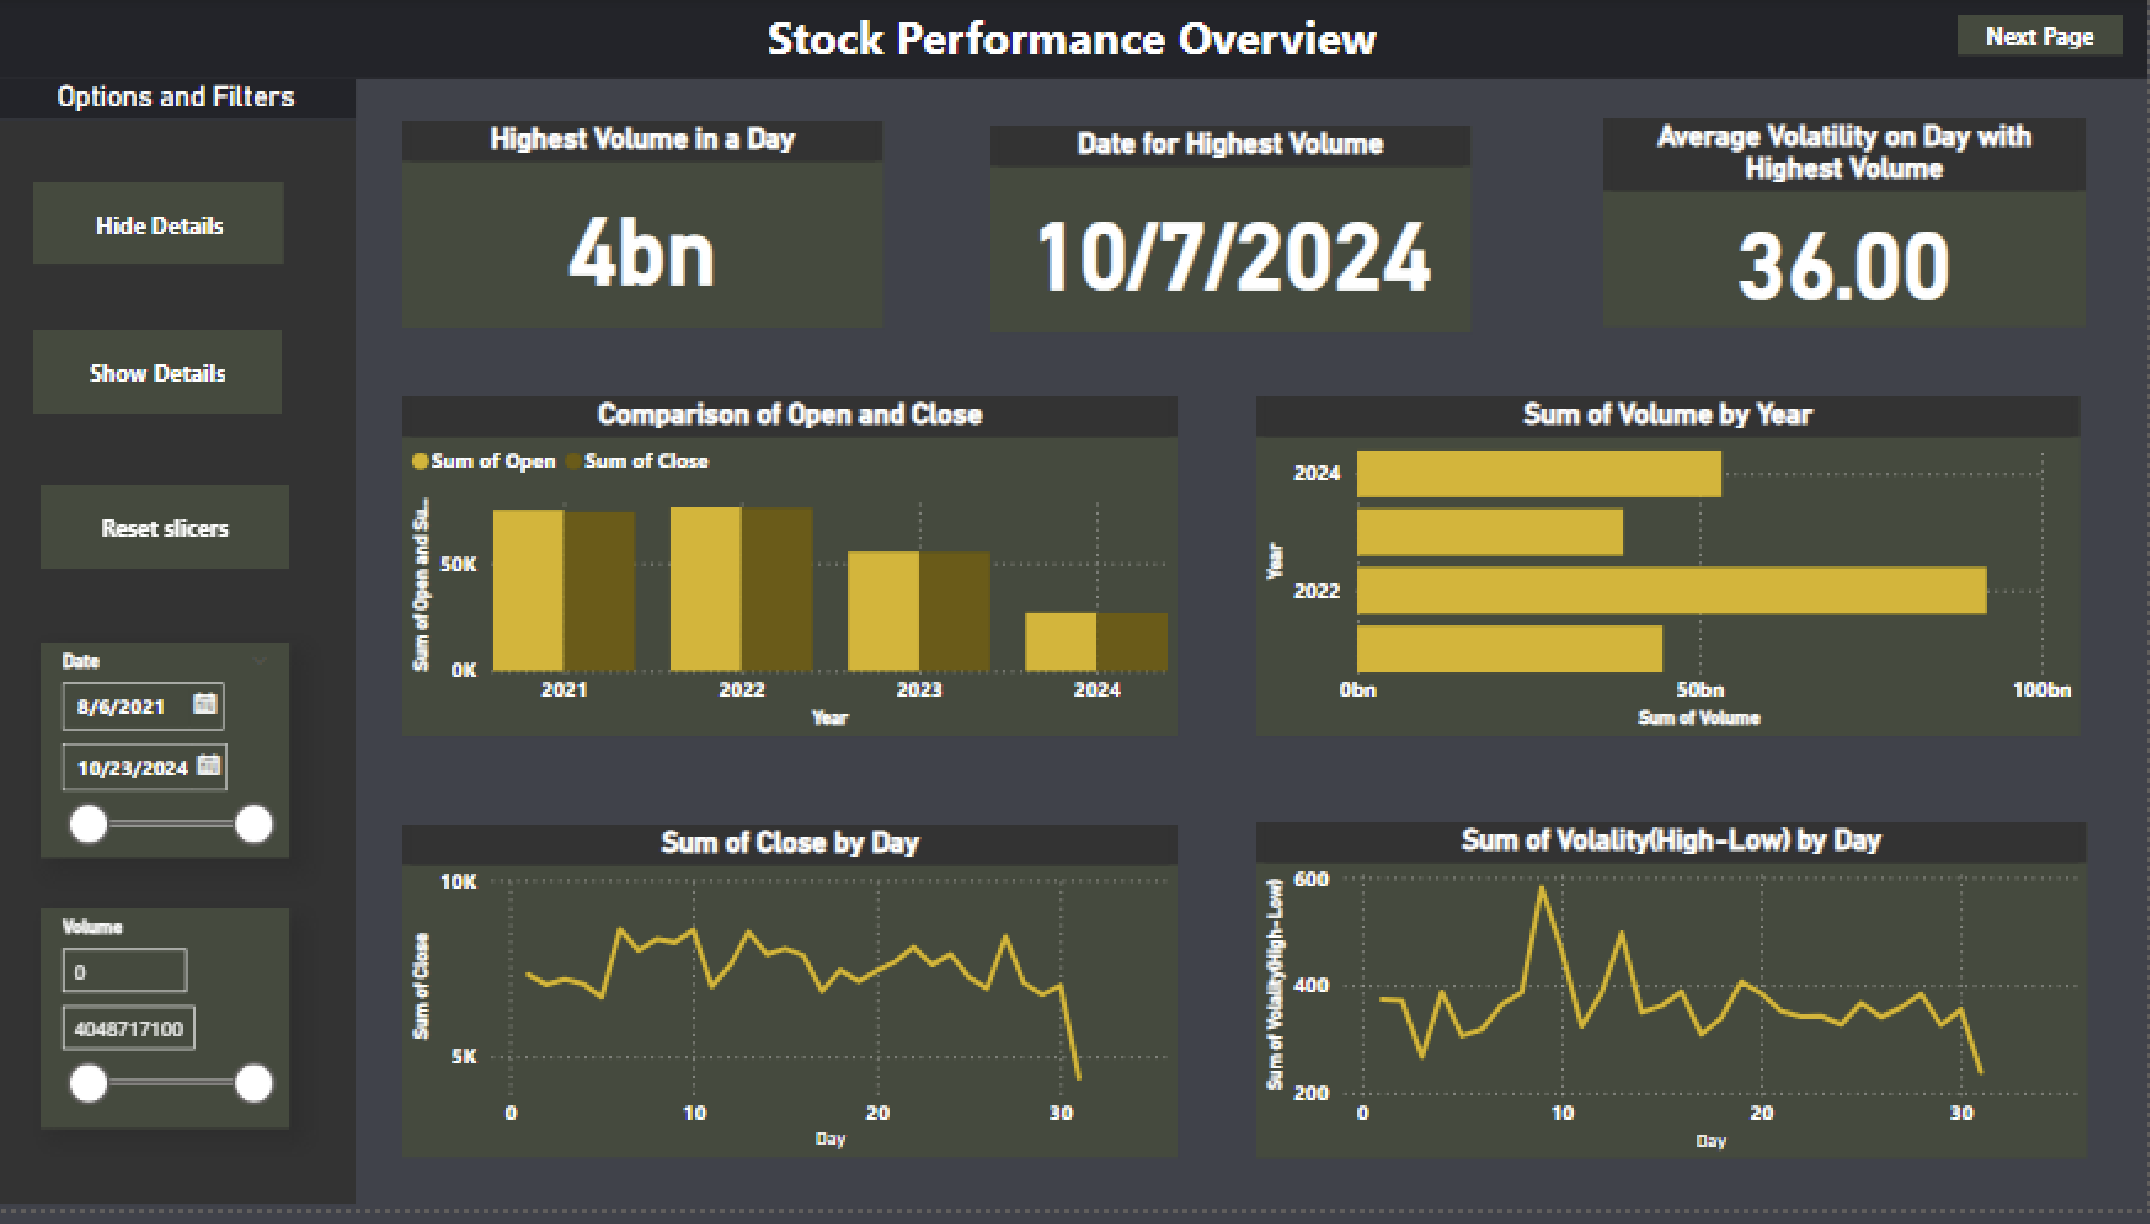

Layout of this report page (visuals, bound fields, positions):
{"tool":"powerbi","page":{"name":"Stock Performance","canvas":[1280,720],"ordinal":0},"visuals":[{"type":"shape","title":"Options and Filters","box":[0,48.8,213.7,669],"z":0},{"type":"lineChart","fields":{"Y":["Sum(BUKA JK.Close)"],"Category":["BUKA JK.Date.Variation.Date Hierarchy.Year","BUKA JK.Date.Variation.Date Hierarchy.Month","BUKA JK.Date.Variation.Date Hierarchy.Day"]},"box":[241.6,492,461.5,198.1],"z":1000},{"type":"barChart","fields":{"Category":["BUKA JK.Date.Variation.Date Hierarchy.Year","BUKA JK.Date.Variation.Date Hierarchy.Month","BUKA JK.Date.Variation.Date Hierarchy.Day"],"Y":["Sum(BUKA JK.Volume)"]},"box":[748.8,237.3,489.8,202.4],"z":2000},{"type":"lineChart","fields":{"Y":["Sum(BUKA JK.Volality(High-Low))"],"Category":["BUKA JK.Date.Variation.Date Hierarchy.Year","BUKA JK.Date.Variation.Date Hierarchy.Month","BUKA JK.Date.Variation.Date Hierarchy.Day"]},"box":[748.8,489.8,494.1,200.3],"z":3000},{"type":"textbox","box":[0,0,1280,47.9],"z":4000},{"type":"clusteredColumnChart","title":"Comparison of Open and Close","fields":{"Category":["BUKA JK.Date.Variation.Date Hierarchy.Year","BUKA JK.Date.Variation.Date Hierarchy.Month","BUKA JK.Date.Variation.Date Hierarchy.Day"],"Y":["Sum(BUKA JK.Open)","Sum(BUKA JK.Close)"]},"box":[241.6,237.3,461.5,202.4],"z":5000},{"type":"card","title":"Highest Volume in a Day","fields":{"Values":["Max(BUKA JK.Volume)"]},"box":[242.1,73,285.9,123.1],"z":6000},{"type":"card","title":"Date for Highest Volume","fields":{"Values":["Min(BUKA JK.Date)"]},"box":[591.6,75.9,285.8,122.8],"z":7000},{"type":"card","title":"Average Volatility on Day with Highest Volume","fields":{"Values":["Avg(BUKA JK.Volality(High-Low))"]},"box":[955.6,71.8,287.3,124.1],"z":8000},{"type":"slicer","fields":{"Values":["BUKA JK.Date"]},"box":[26.1,383.1,148,128.4],"z":9000},{"type":"slicer","fields":{"Values":["BUKA JK.Volume"]},"box":[26.1,542,148,130.6],"z":10000},{"type":"shape","box":[22.7,109.2,150.5,49.5],"z":11000},{"type":"shape","box":[21.8,198.1,148,50.1],"z":12000},{"type":"shape","box":[26.1,289.5,148,50.1],"z":13000},{"type":"shape","box":[1166.8,10.9,98,23.9],"z":13001}]}

Visuals, with their boxes in screenshot pixels (x1, y1, x2, y2), scaled from the page's 1280x720 canvas onto the 2150x1224 screenshot:
"Options and Filters" shape: locate(0, 83, 359, 1220)
lineChart - Sum(BUKA JK.Close) x BUKA JK.Date.Variation.Date Hierarchy.Year: locate(406, 836, 1181, 1173)
barChart - BUKA JK.Date.Variation.Date Hierarchy.Year x BUKA JK.Date.Variation.Date Hierarchy.Month: locate(1258, 403, 2080, 747)
lineChart - Sum(BUKA JK.Volality(High-Low)) x BUKA JK.Date.Variation.Date Hierarchy.Year: locate(1258, 833, 2088, 1173)
textbox: locate(0, 0, 2149, 81)
"Comparison of Open and Close" clusteredColumnChart: locate(406, 403, 1181, 747)
"Highest Volume in a Day" card: locate(407, 124, 887, 333)
"Date for Highest Volume" card: locate(994, 129, 1474, 338)
"Average Volatility on Day with Highest Volume" card: locate(1605, 122, 2088, 333)
slicer - BUKA JK.Date: locate(44, 651, 292, 870)
slicer - BUKA JK.Volume: locate(44, 921, 292, 1143)
shape: locate(38, 186, 291, 270)
shape: locate(37, 337, 285, 422)
shape: locate(44, 492, 292, 577)
shape: locate(1960, 19, 2124, 59)
